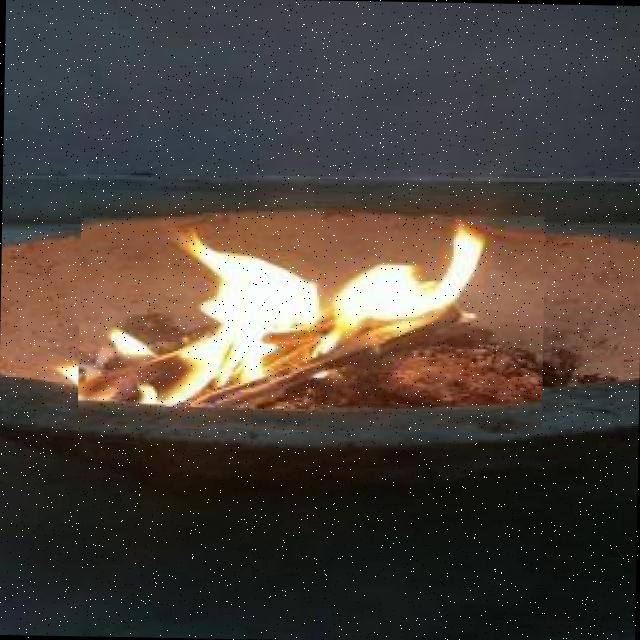fire: (77, 189, 545, 434)
